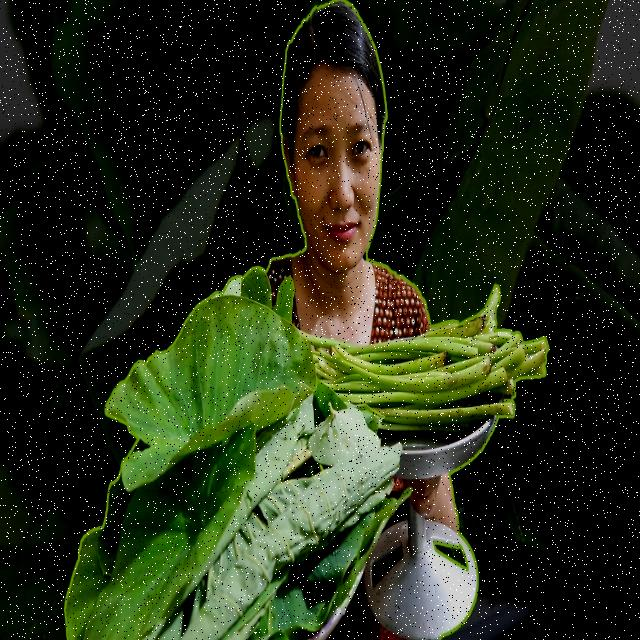Taro Leaves: (64, 260, 549, 640)
